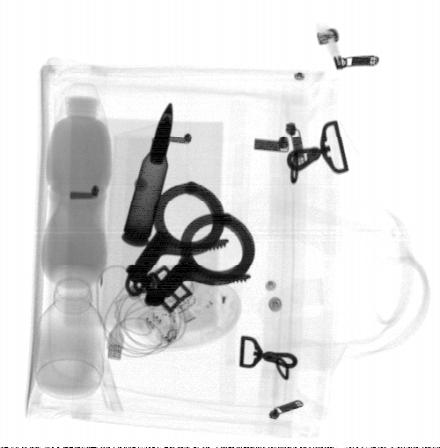Bullet: (122, 101, 173, 247)
HandCuffs: (124, 182, 254, 308)
